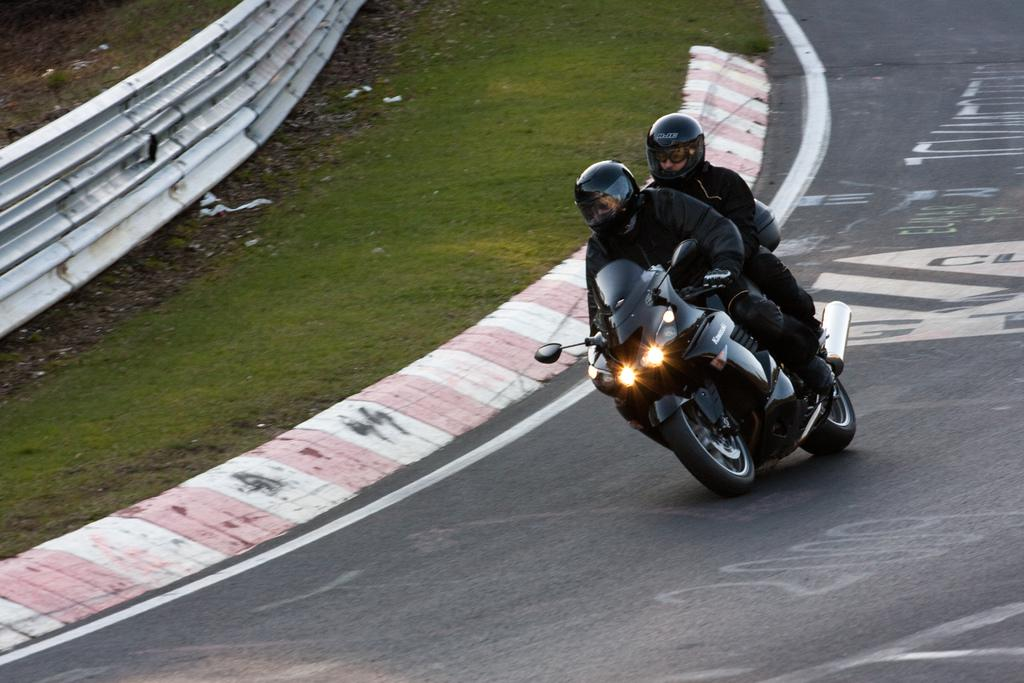helmet: (574, 159, 640, 236), (646, 112, 705, 189)
